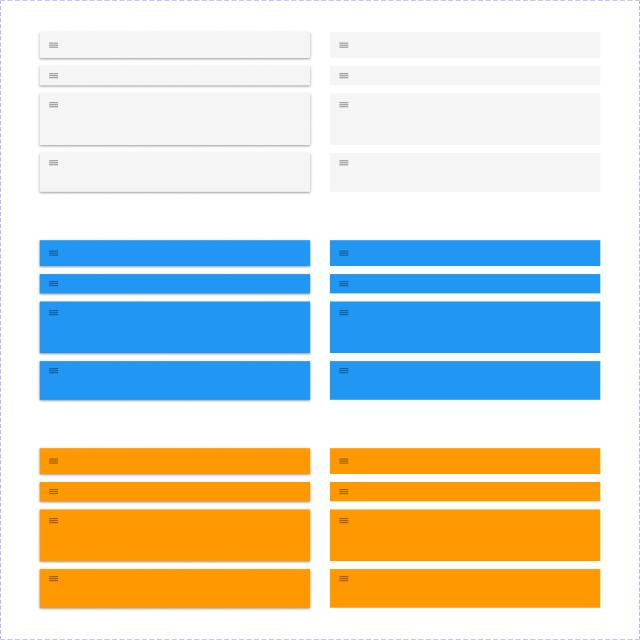VAppBar: (37, 508, 313, 563), (37, 300, 313, 354), (330, 92, 600, 147), (328, 508, 602, 562), (39, 93, 312, 147), (329, 300, 602, 354), (327, 360, 603, 402), (37, 568, 312, 610), (328, 568, 602, 610), (39, 152, 312, 192), (40, 362, 311, 402), (329, 154, 599, 193), (39, 446, 312, 476), (328, 31, 600, 60), (328, 239, 602, 267), (328, 447, 602, 475), (39, 240, 310, 268), (38, 32, 312, 59), (40, 64, 312, 88), (38, 272, 310, 296), (328, 273, 602, 295), (38, 480, 312, 502), (327, 481, 602, 502), (329, 65, 600, 86)
VIcon: (48, 42, 59, 48), (48, 250, 59, 256), (338, 102, 349, 108), (48, 310, 59, 316), (338, 310, 349, 316), (338, 42, 348, 48), (48, 458, 58, 464), (338, 458, 348, 464), (48, 73, 59, 78), (48, 160, 59, 165), (338, 73, 349, 78), (338, 160, 349, 165), (338, 251, 349, 256), (48, 368, 59, 373), (338, 281, 349, 286), (338, 368, 349, 373), (338, 576, 349, 581), (48, 102, 58, 107), (48, 489, 58, 494), (48, 281, 58, 286), (48, 518, 58, 523), (338, 489, 348, 494), (338, 518, 348, 523), (48, 576, 58, 581)
